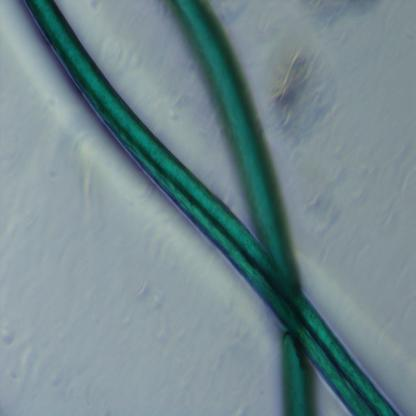Background material: (267, 48, 323, 152)
Microfibre: (24, 2, 398, 416), (170, 2, 317, 414)
